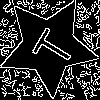T: (23, 21, 78, 72)
